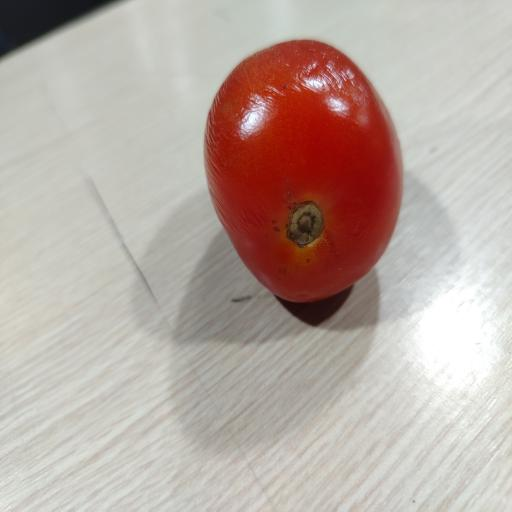spoiled: (204, 40, 402, 302)
